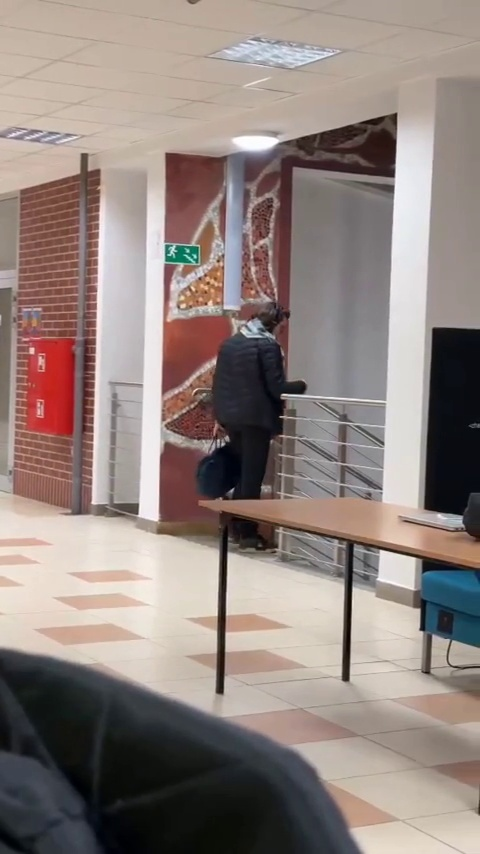no vest: (208, 298, 311, 553)
